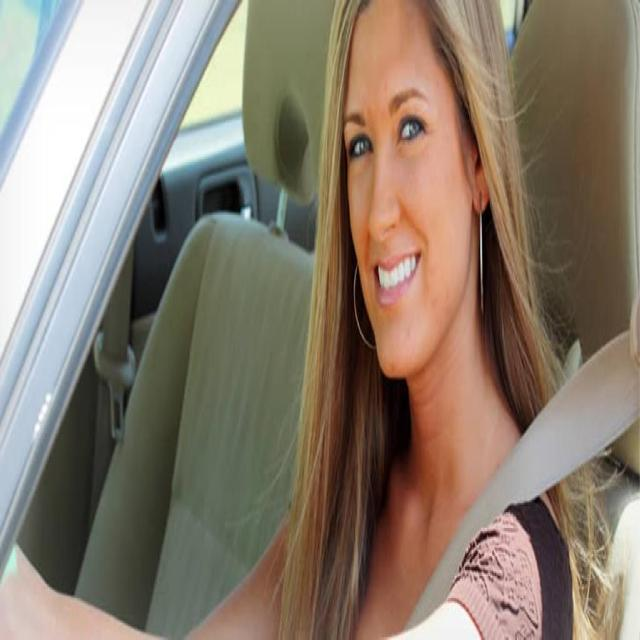Face: (347, 1, 468, 387)
